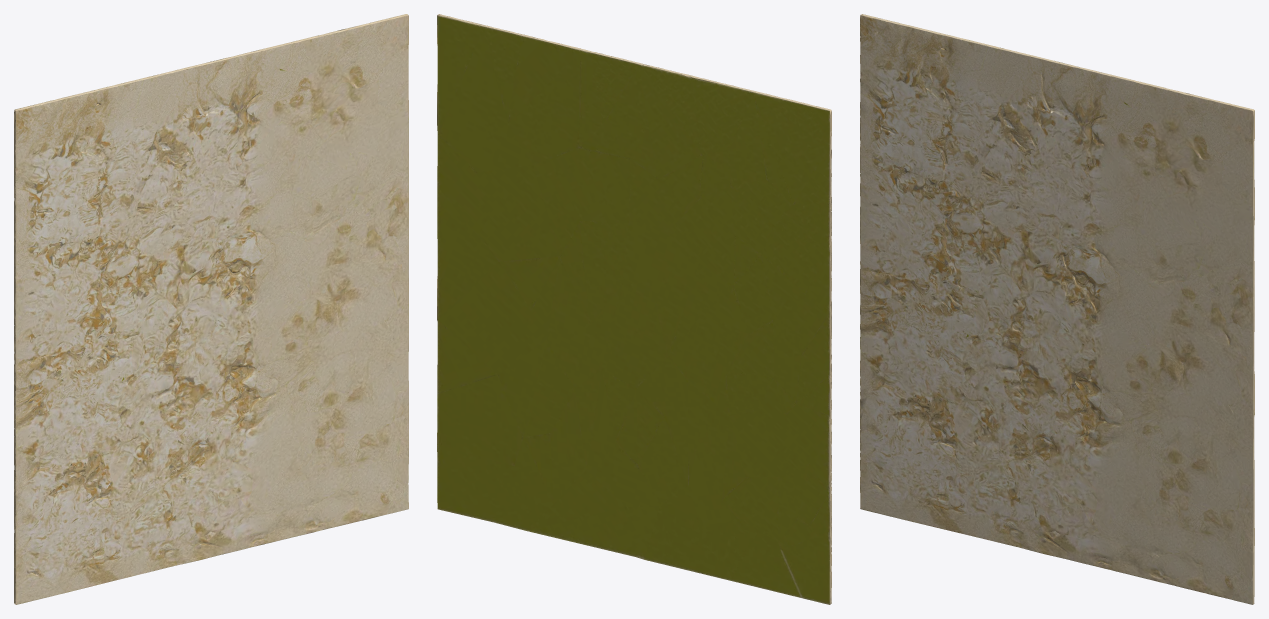
Rendered from TIL-JOH-YK1FLCR000000PJ.glb.
3 renders of one model, left to right at view 1: azimuth 30°, elevation 25°; view 2: azimuth 150°, elevation 25°; view 3: azimuth 330°, elevation 25°, orthographic.
Parts seen in each view (by area): view 1: mesh_node; view 2: mesh_node; view 3: mesh_node.
Part boxes in pixels (box(x1,y1,x2,y2)): mesh_node: box(14, 14, 408, 604); mesh_node: box(437, 14, 831, 604); mesh_node: box(860, 14, 1254, 604).
Size of the model in its own units: 0.9992 by 1.2 by 0.00897.
1 material, 1 textured.
